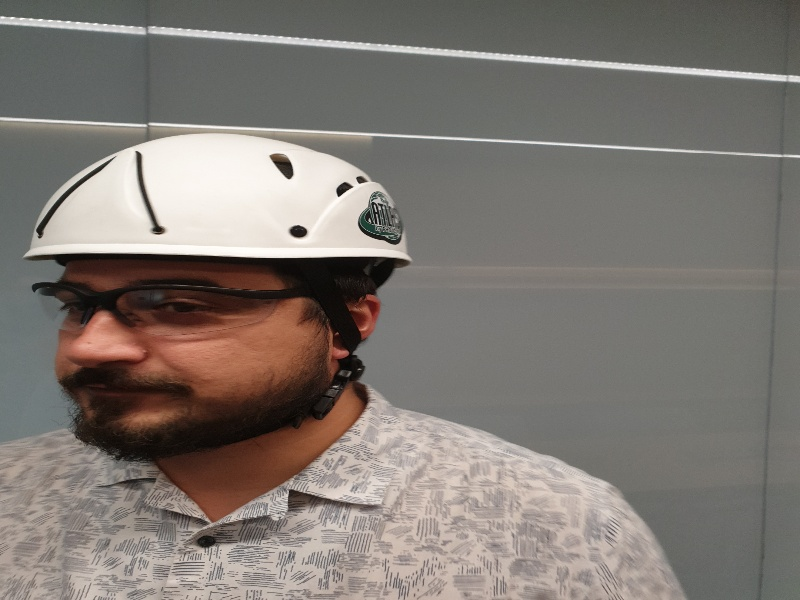Baret: (16, 135, 410, 261)
Gozluk: (29, 280, 320, 334)
